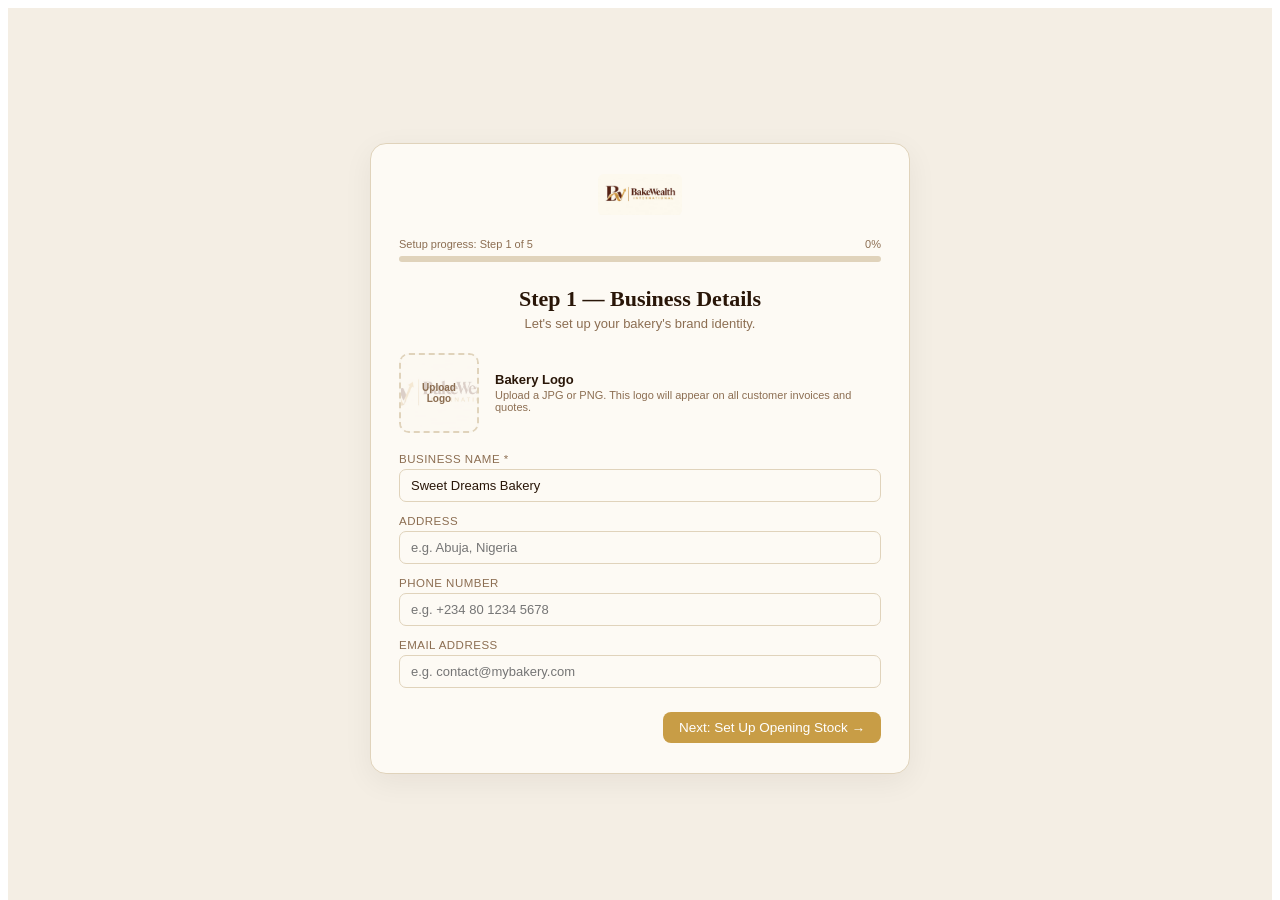
Scenario: Onboarding Import Modal › clicking import on Step 2 opens the import modal on Step 2 and does not show on Step 1
Check: the text "Import — Excel, PDF or a photo" is not shown
What coordinates should you click on to do the following:
click the button "Next: Set Up Opening Stock →"
I would click on:
 (772, 727)
Its box is [663, 712, 881, 742].
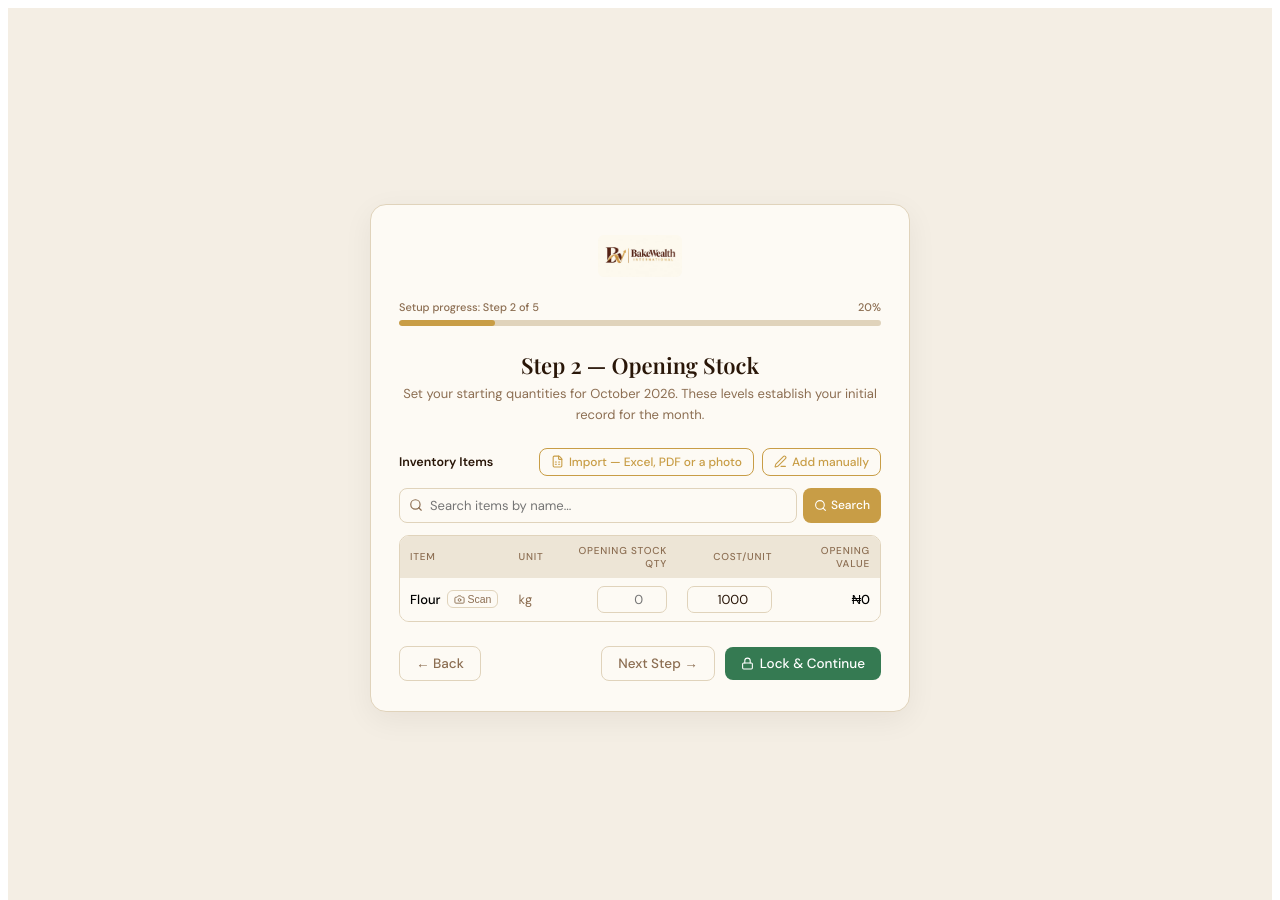
Check: the text "Open your Excel. Copy each column and paste into its own box" is not shown
Check: the text "Step 2 — Opening Stock" is shown, box [521, 350, 759, 380]
Check: the button "Import — Excel, PDF or a photo" is shown
// Click Import button
What coordinates should you click on to do the following:
click the button "Import — Excel, PDF or a photo"
I would click on:
 (646, 462)
Its box is [539, 448, 754, 476].
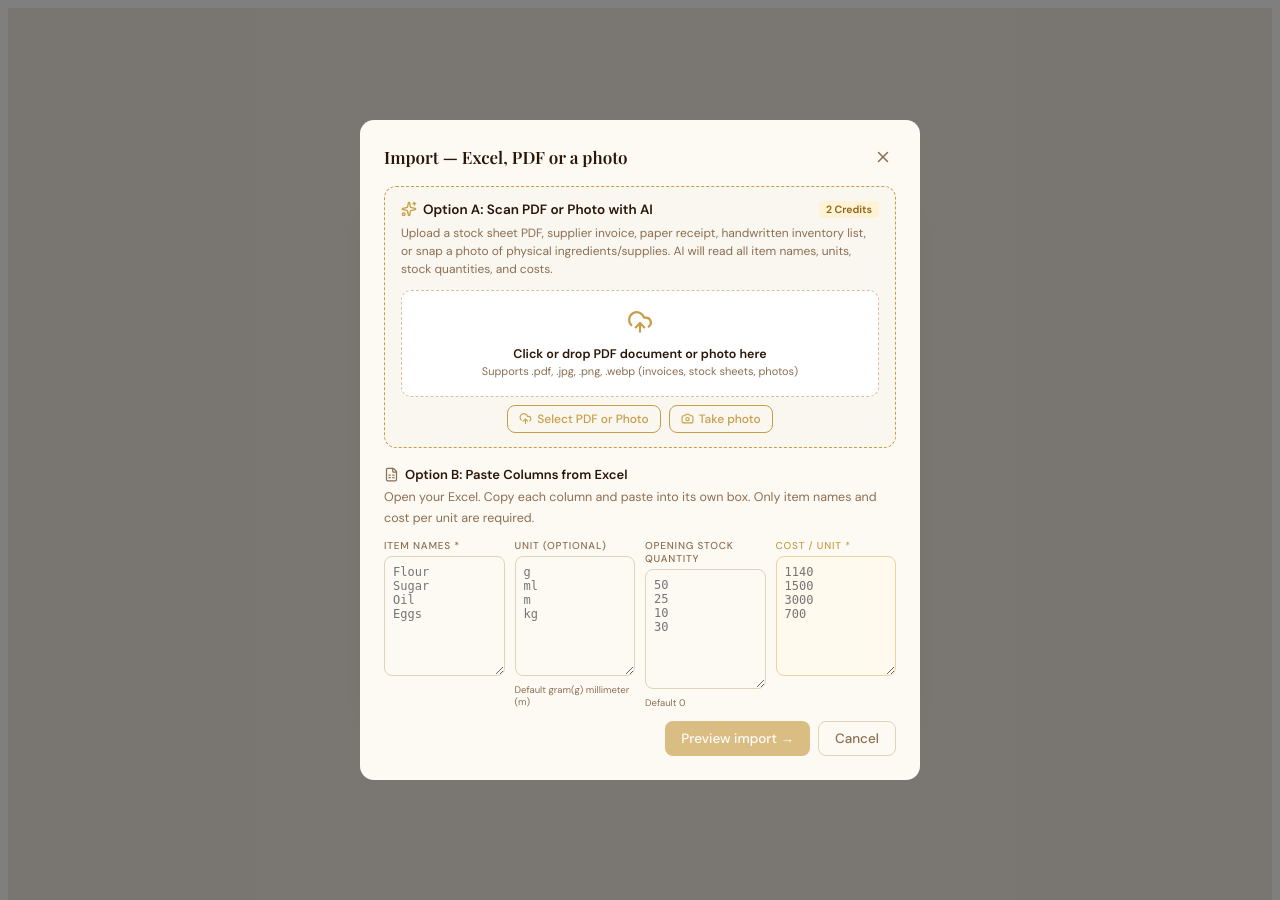
Check: the text "Step 2 — Opening Stock" is shown, box [521, 350, 759, 380]
Check: the text "Open your Excel. Copy each column and paste into its own box" is shown, box [384, 489, 877, 526]
Check: the text "Item Names *" is shown, box [401, 225, 866, 277]
What coordinates should you click on to do the following:
click the button "Cancel"
I would click on:
 (857, 739)
Its box is [818, 721, 896, 756].
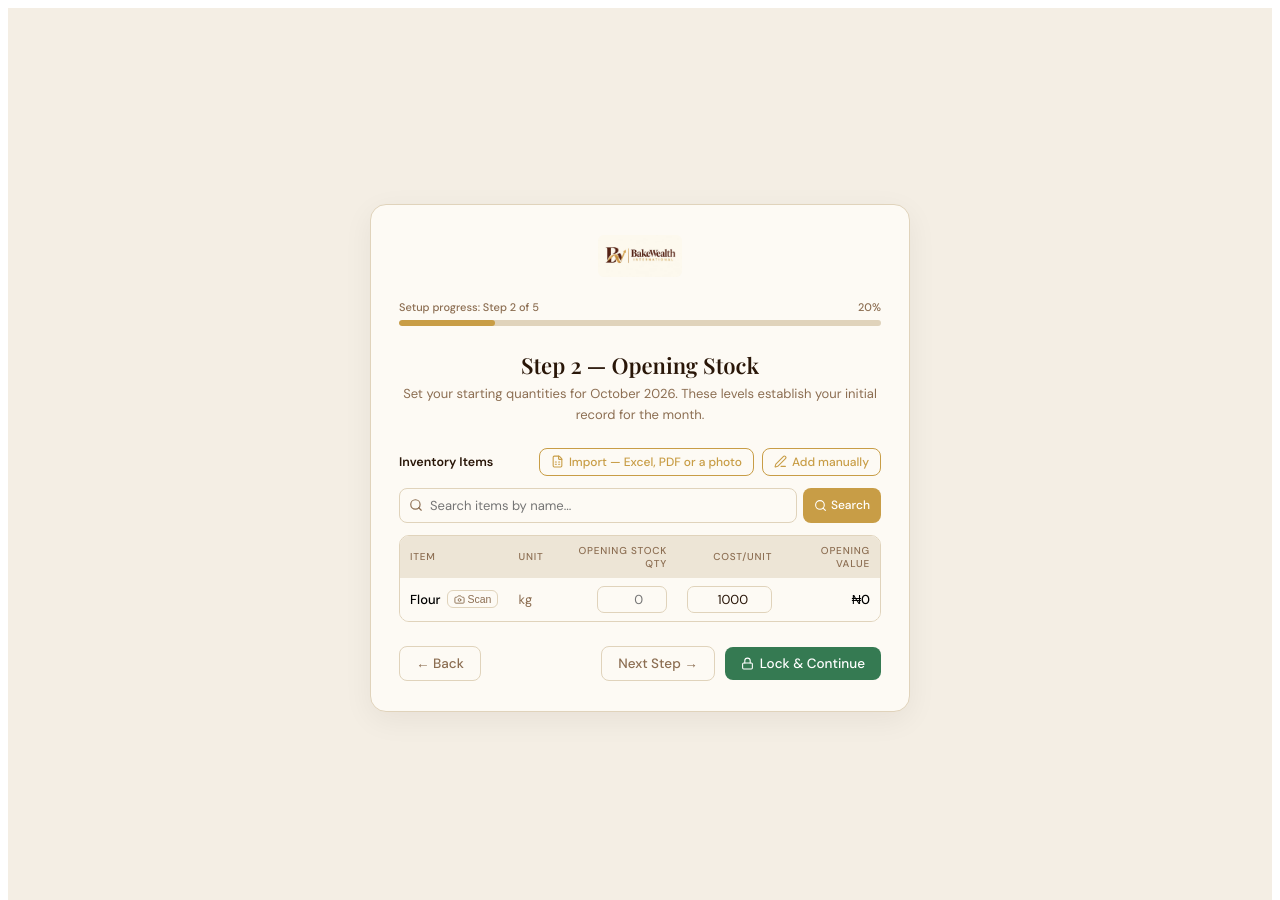
Check: the text "Step 2 — Opening Stock" is shown, box [521, 350, 759, 380]
Check: the text "Open your Excel. Copy each column and paste into its own box" is gone
